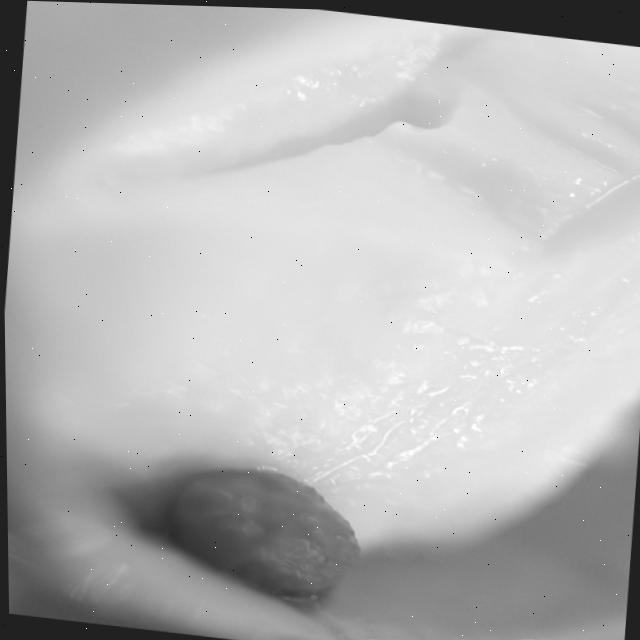熟制海鲜: (606, 38, 640, 118)
